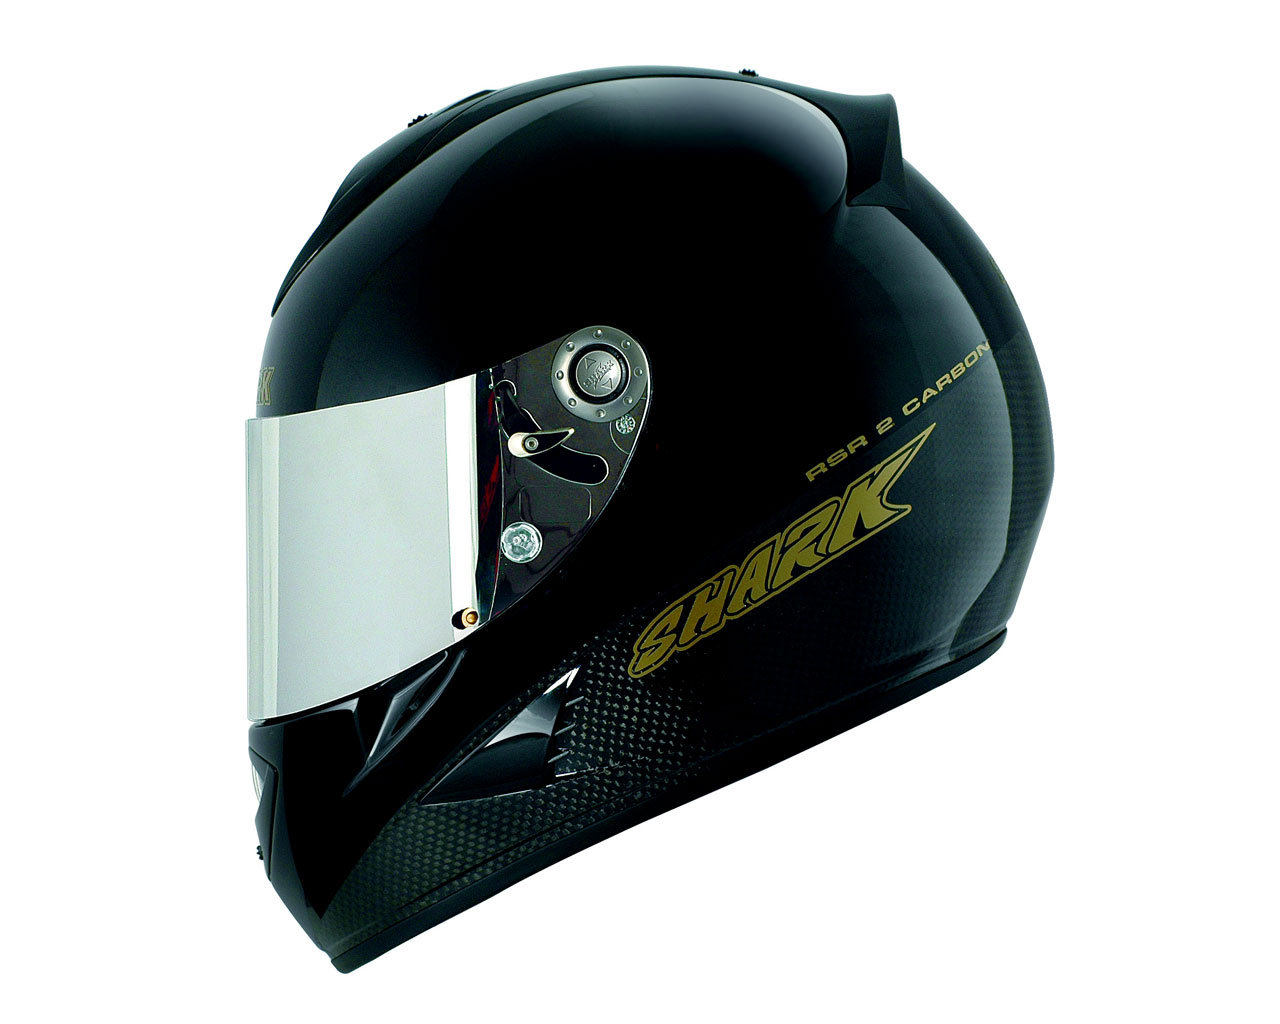helmet: (206, 112, 1052, 837)
